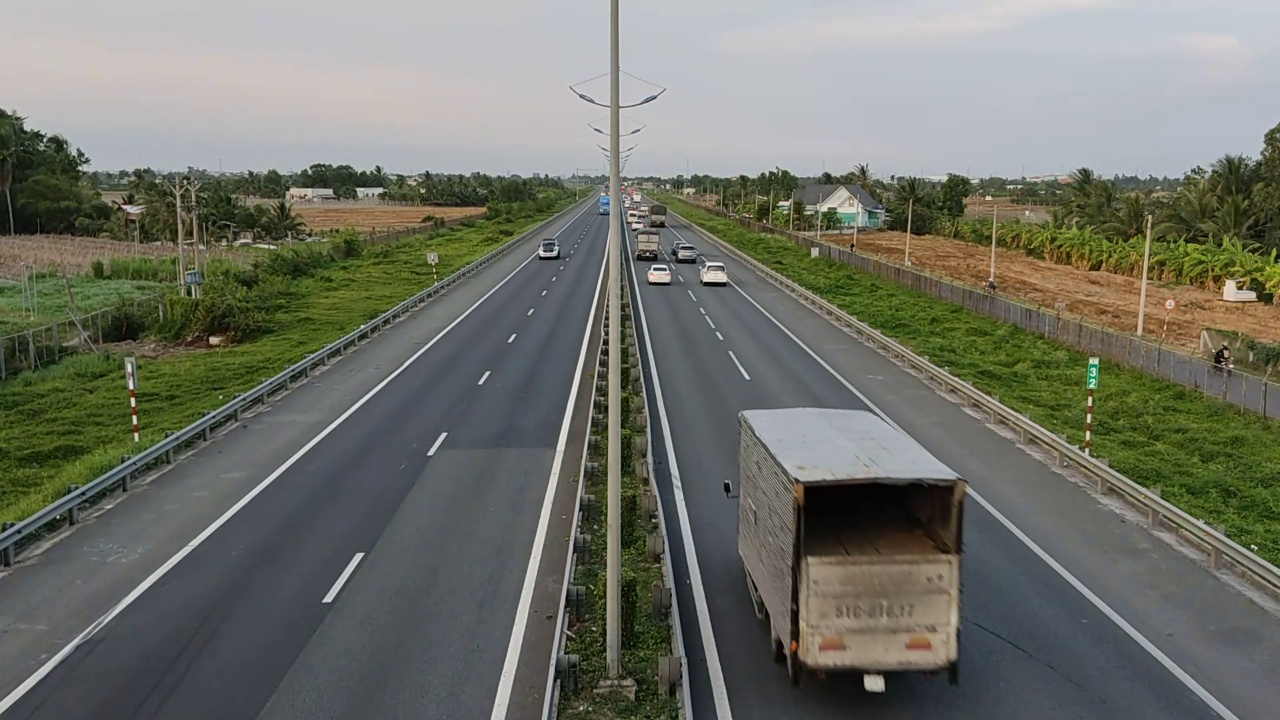car: (699, 259, 728, 285), (647, 263, 673, 285), (537, 238, 561, 258)
truck: (735, 405, 967, 693)
